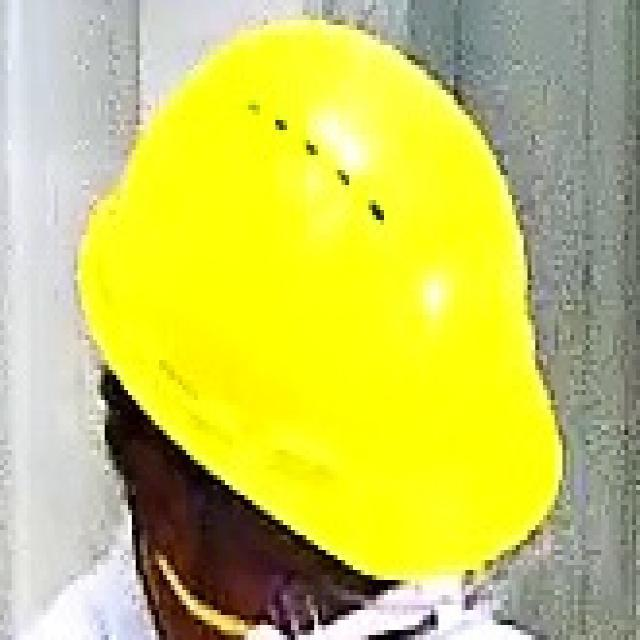yellow helmet: (71, 19, 576, 589)
